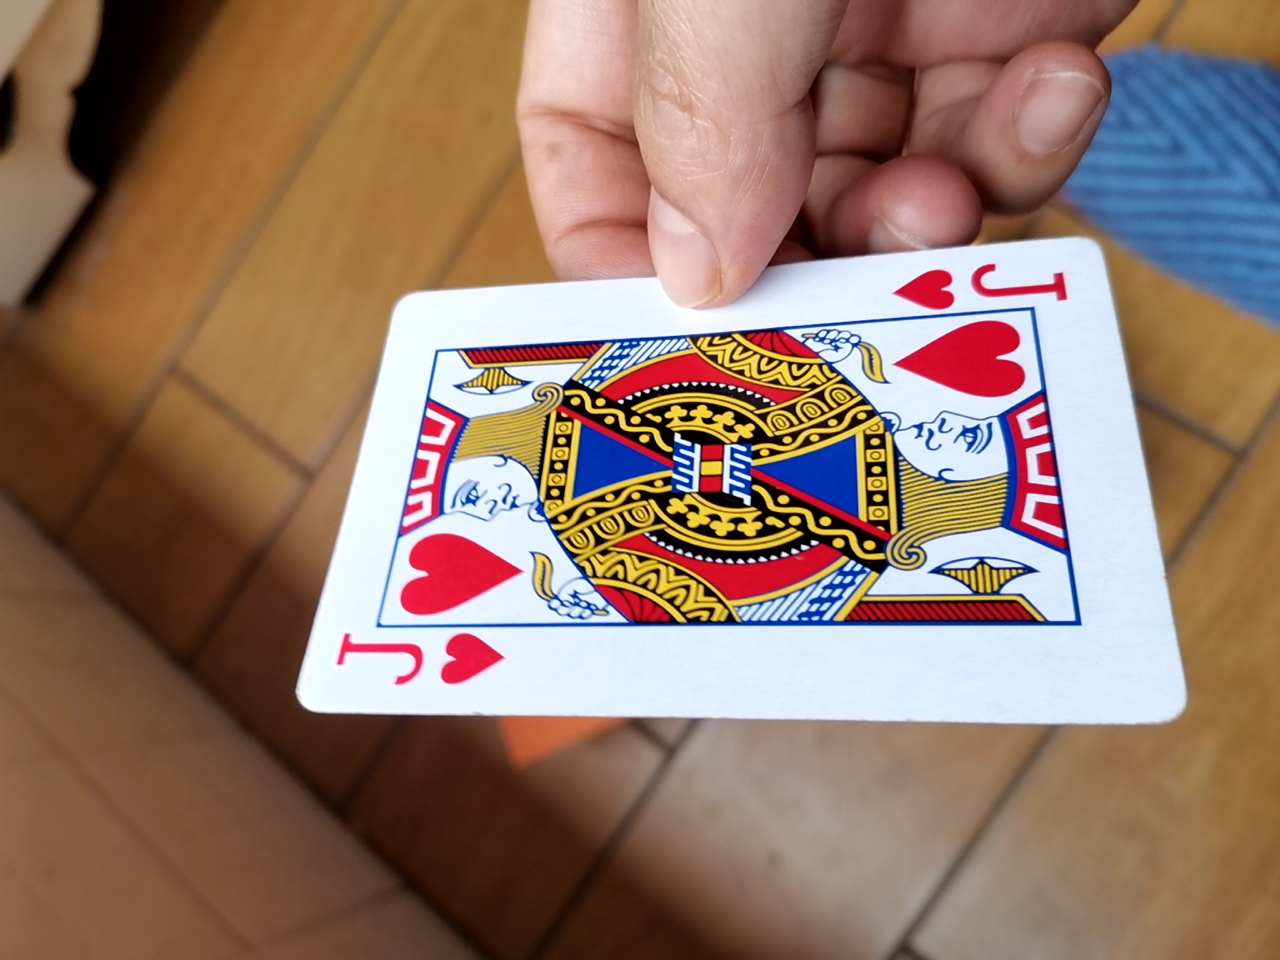hx j: (290, 244, 1173, 735)
